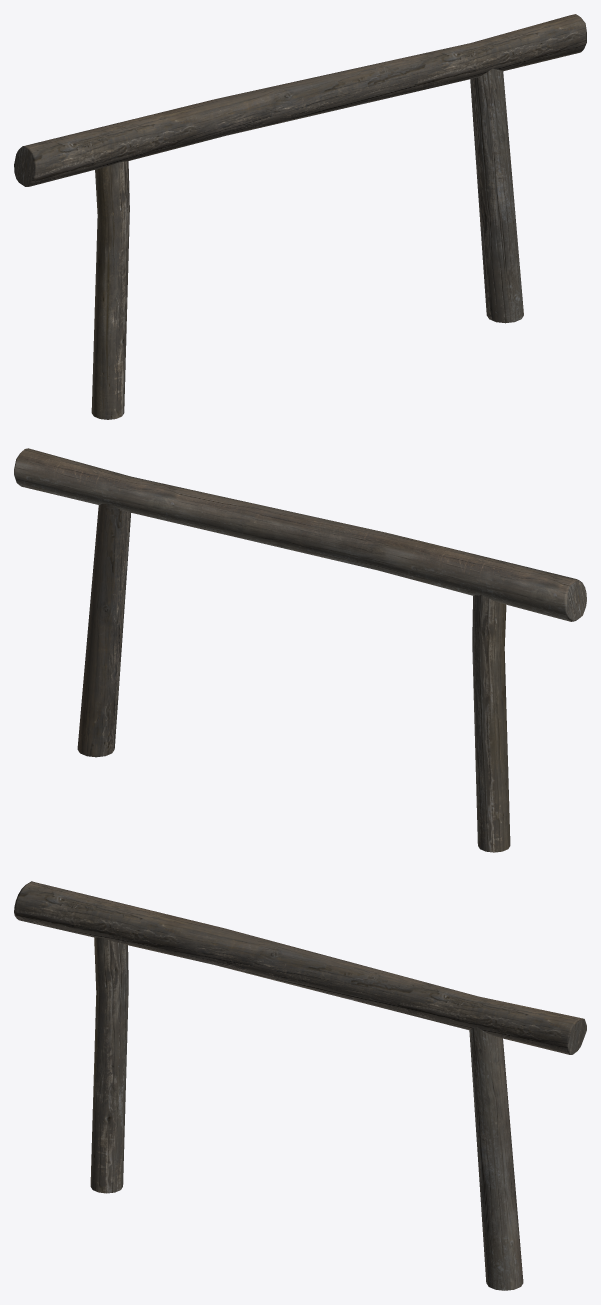
File: SM_stall_01.fbx
3 views of the same model, one above another, from view 1: azimuth 30°, elevation 25°; view 2: azimuth 150°, elevation 25°; view 3: azimuth 330°, elevation 25° (orthographic).
Visible parts, largest first — view 1: SM_stall_01_LOD0; view 2: SM_stall_01_LOD0; view 3: SM_stall_01_LOD0.
Boxes of the visible parts, box(x1,y1,x2,y2) form: SM_stall_01_LOD0: box(14, 14, 586, 419); SM_stall_01_LOD0: box(14, 448, 586, 852); SM_stall_01_LOD0: box(14, 881, 586, 1290).
Size of the model in its own units: 292 by 19.14 by 143.
Materials: 1 (1 with a texture image).
